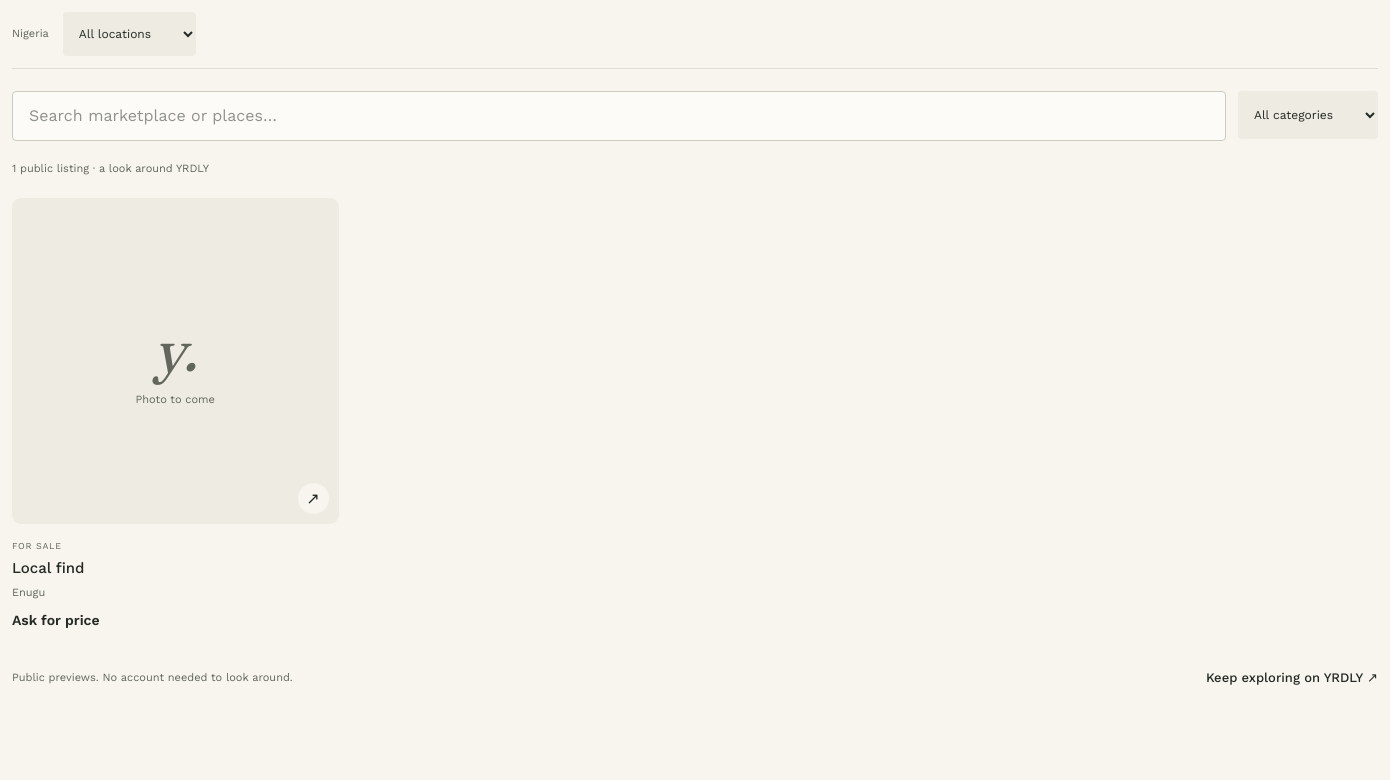
clears location filters to recover the available listing
Select "Oyo" in the dropdown with id "browse-state" at (129, 34), box [63,12,196,56]
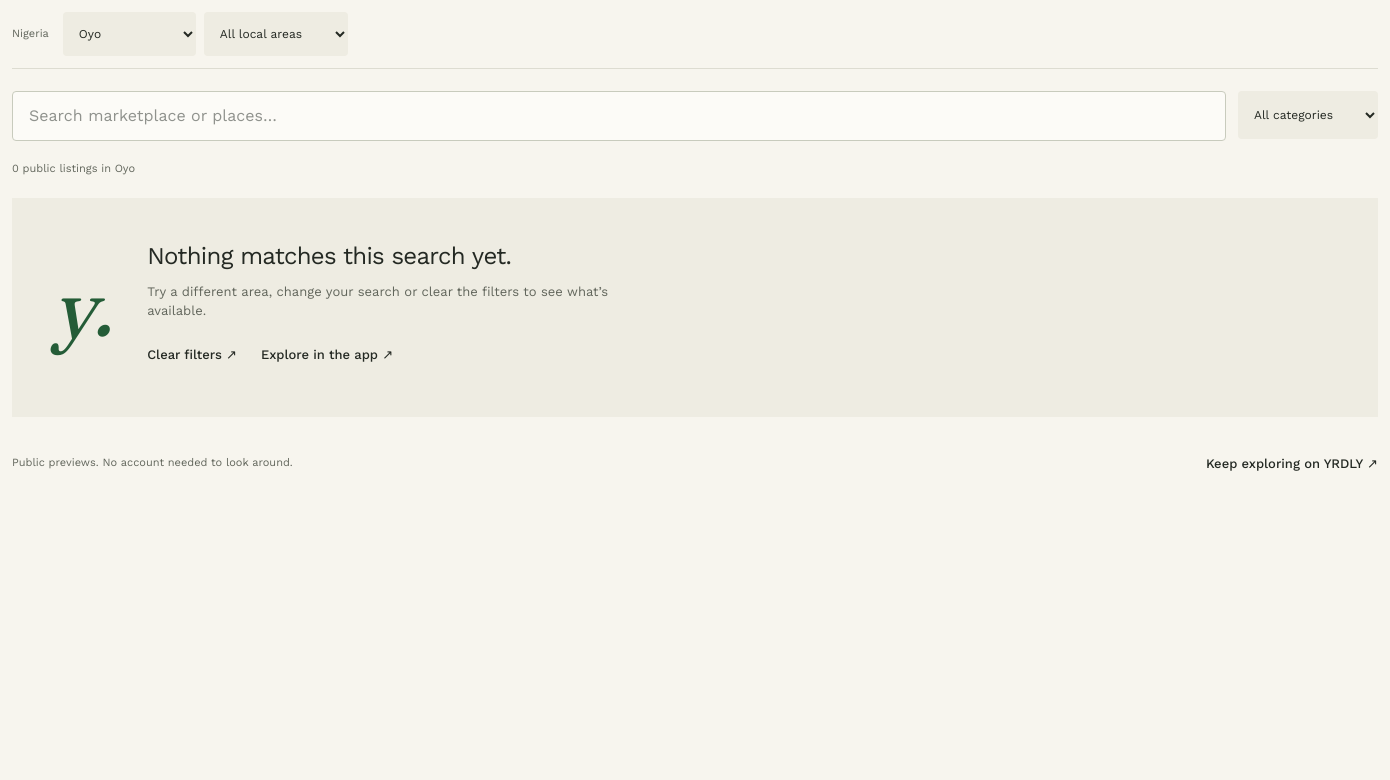
Expected: the text "Nothing matches" is shown, [147,242,511,270]
Click the button "Clear filters ↗" at (192, 354), box [147,332,237,376]
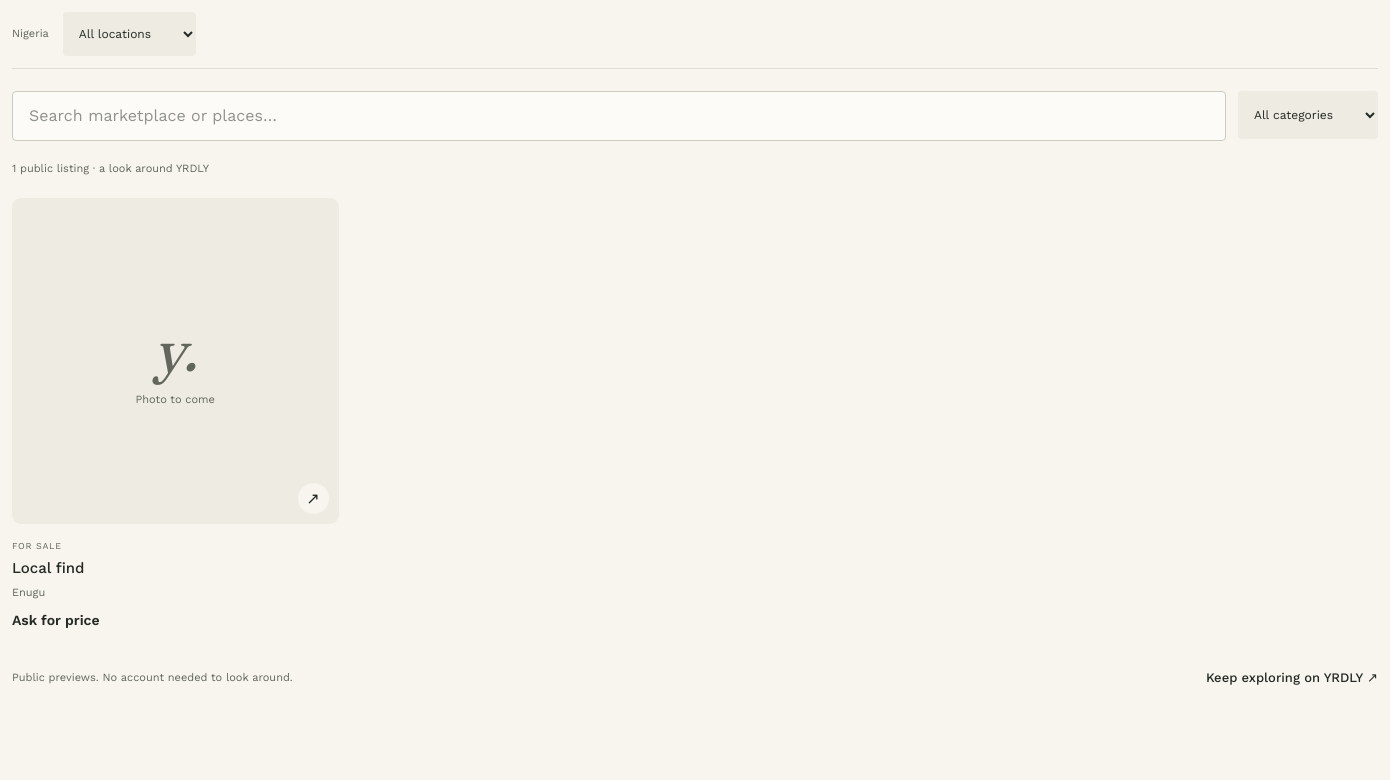
Expected: the link with class "listing-card" shows "Local find", [12,198,338,631]
